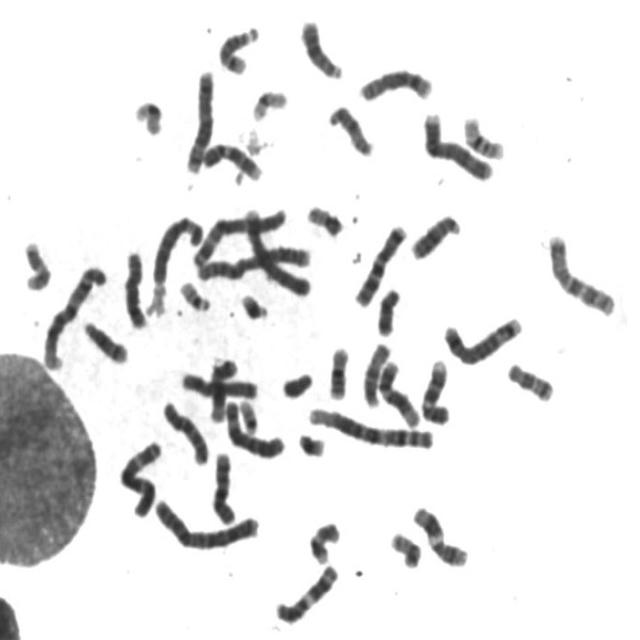A1: (38, 256, 112, 372), (304, 397, 439, 451)
A2: (150, 490, 264, 552), (192, 238, 314, 283)
A3: (189, 200, 291, 271), (113, 431, 166, 519)
B4: (239, 200, 314, 298), (418, 104, 497, 182)
B5: (439, 308, 527, 367), (180, 62, 219, 175)
C10: (158, 393, 213, 467), (208, 444, 241, 526)
C11: (271, 557, 343, 625), (409, 498, 473, 570)
C12: (375, 353, 424, 429), (204, 352, 242, 427)
C6: (146, 207, 208, 317), (221, 392, 289, 460)
C7: (543, 225, 621, 318), (350, 215, 411, 308)
C8: (354, 60, 436, 103), (120, 242, 152, 331)
C9: (198, 134, 267, 182), (417, 351, 455, 427)
D13: (296, 11, 348, 81), (407, 206, 465, 261)
D14: (214, 17, 264, 76), (79, 312, 133, 365)
D15: (323, 96, 378, 158), (358, 334, 394, 408)
E16: (458, 108, 508, 161), (324, 338, 354, 401)
E17: (19, 233, 56, 292), (306, 514, 344, 565)
E18: (503, 354, 559, 403), (373, 280, 406, 337)
F19: (247, 81, 292, 122), (129, 92, 168, 136)
F20: (303, 196, 348, 238), (386, 524, 424, 570)
G21: (236, 285, 273, 322), (294, 424, 329, 458)
G22: (175, 273, 214, 314), (234, 393, 262, 435)
X: (177, 364, 262, 401)
Y: (277, 364, 317, 401)
